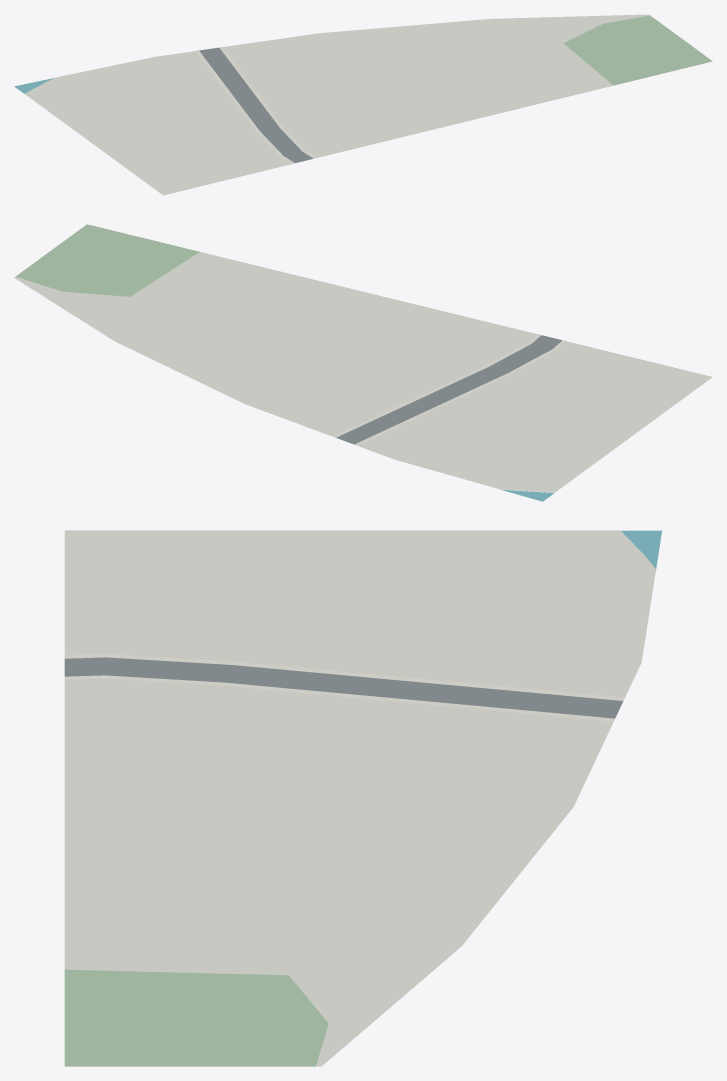
The picture shows the model from 3 angles, top to bottom: view 1: azimuth 30°, elevation 25°; view 2: azimuth 150°, elevation 25°; view 3: azimuth 270°, elevation 25°; orthographic projection. The views are drawn at different scales.
Parts seen in each view (by area): view 1: city; view 2: city; view 3: city.
Boxes of the visible parts, left/top/right/bottom form: city: left=14, top=14, right=712, bottom=195; city: left=14, top=224, right=712, bottom=501; city: left=64, top=530, right=661, bottom=1066.
Size of the model in its own units: 500 by 0.4 by 235.
